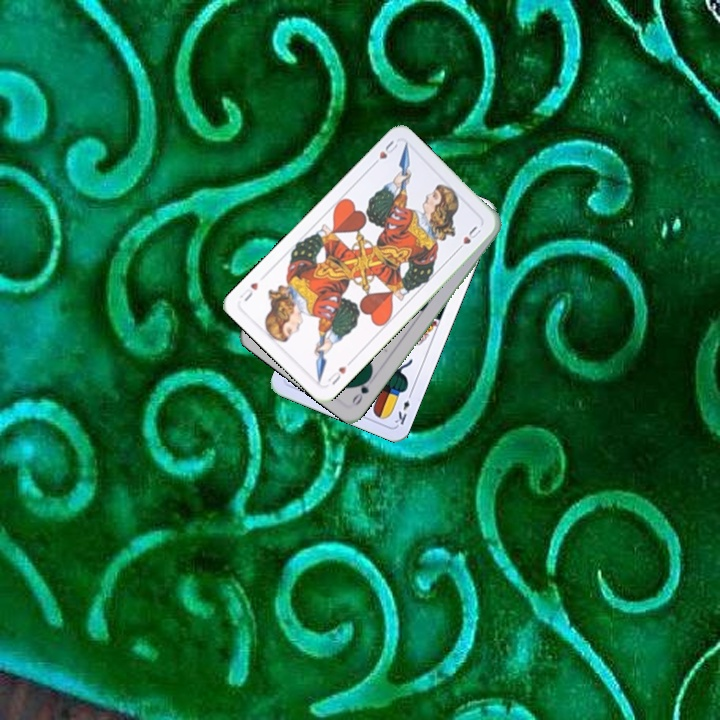EK: (390, 388, 415, 428)
GO: (348, 371, 374, 409)
HU: (368, 136, 400, 169), (323, 356, 355, 387)
